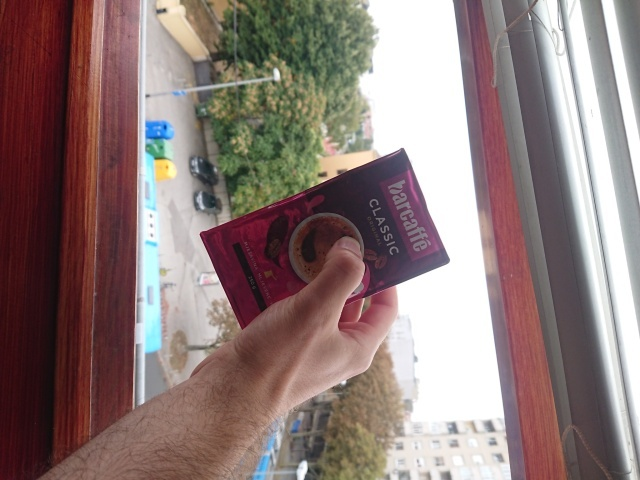Barcaffe Classic Original 225g: (197, 144, 453, 343)
